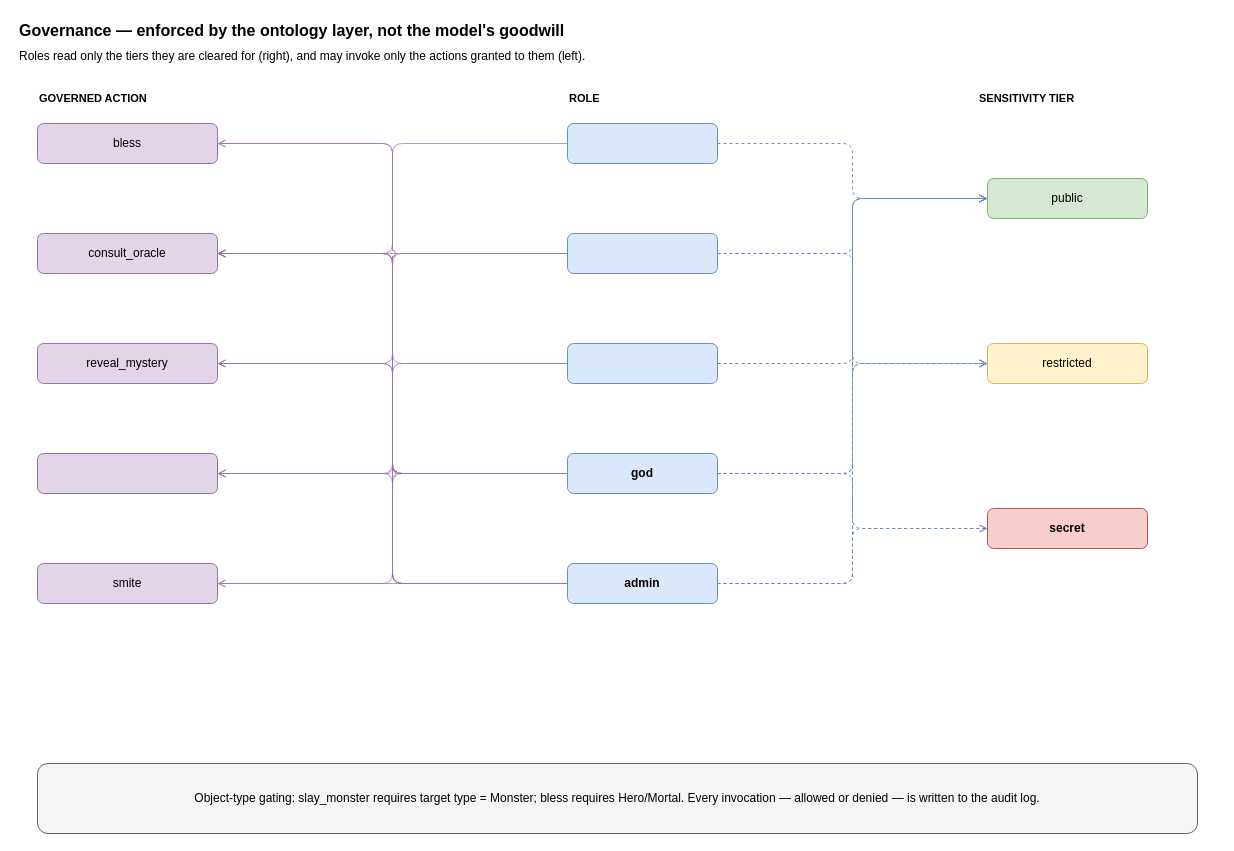
The diagram is 1234 pixels wide and 851 high, and some of its shapes have lost their labels. The shapes that lost their labels are listed below. From the top down, each one's centre as x and y in pixels, then its label:
At (x=642, y=143): "mortal".
At (x=642, y=253): "initiate".
At (x=642, y=363): "hero".
At (x=127, y=473): "slay_monster".
